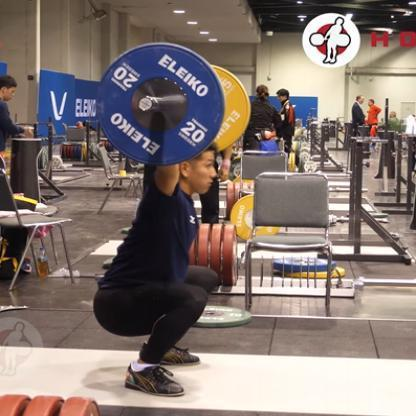barbell: (94, 41, 250, 169)
